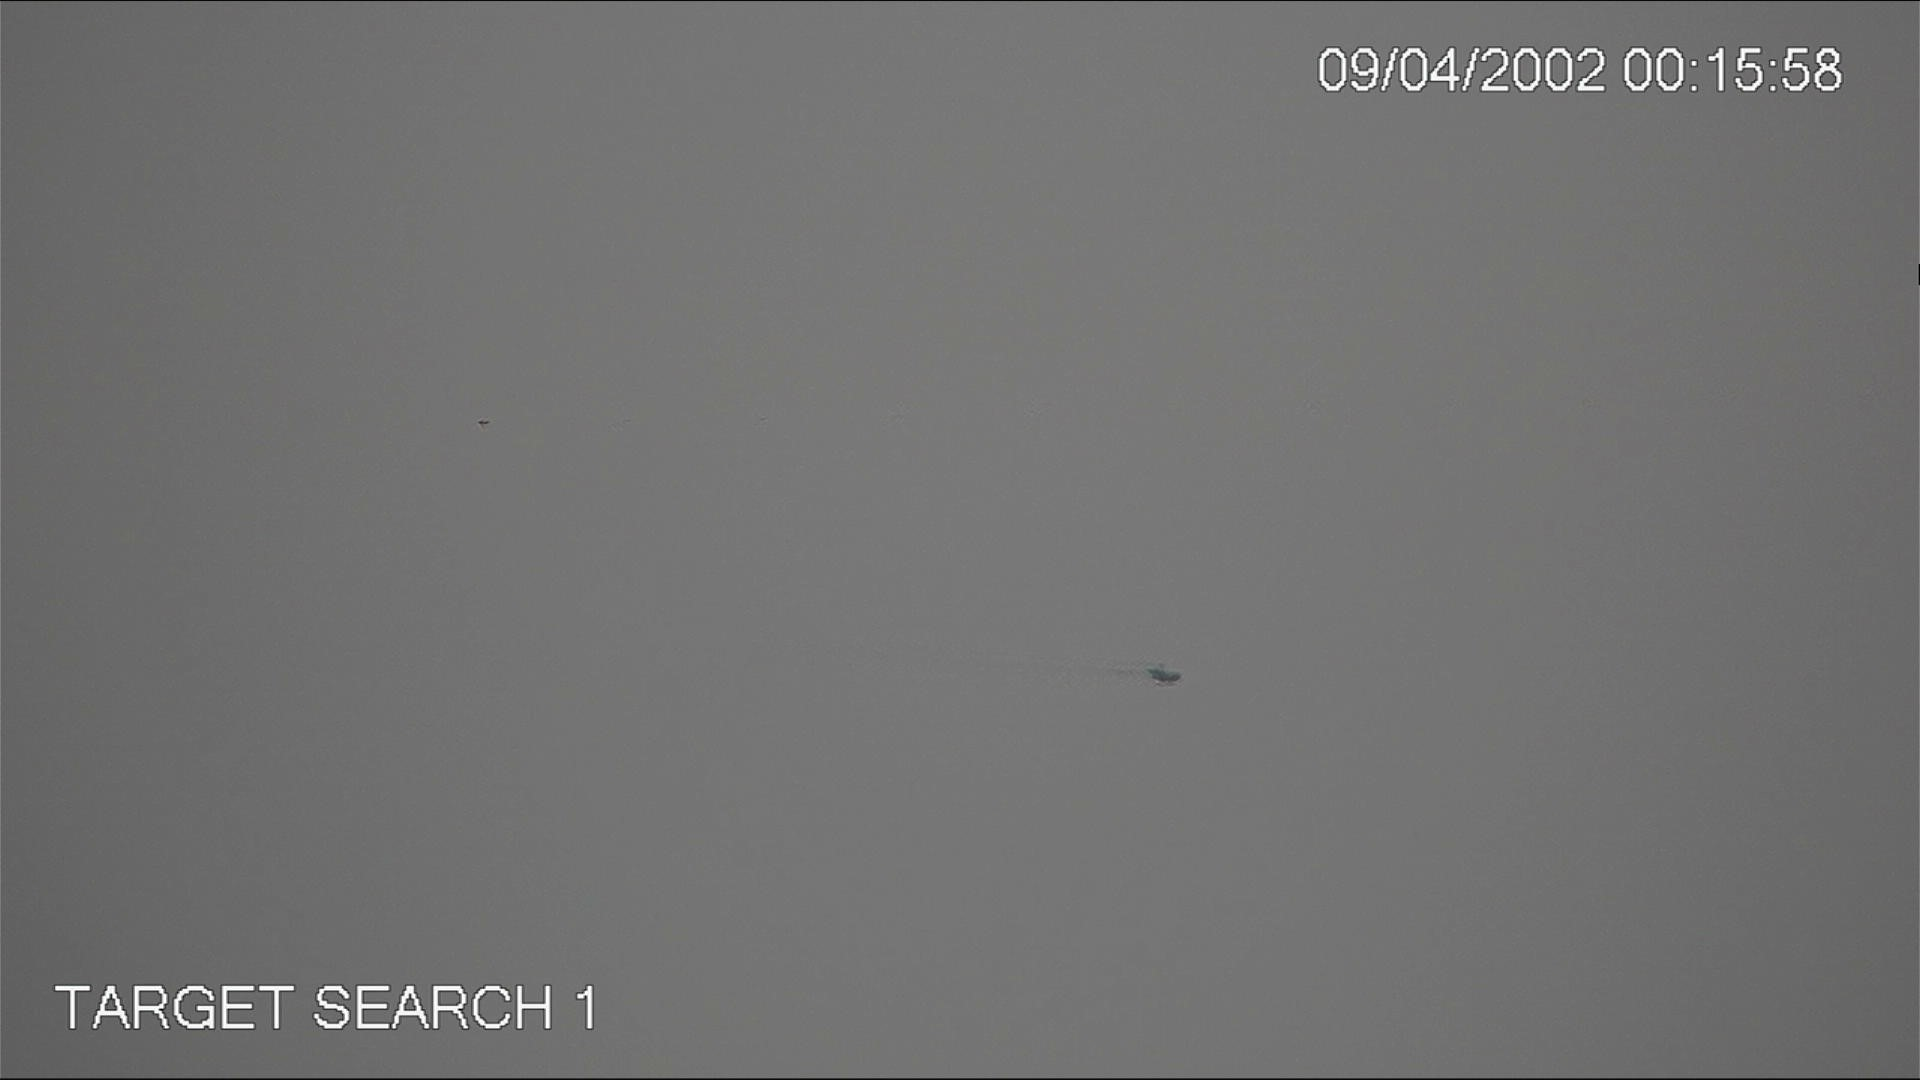SU_30: (1146, 663, 1182, 686)
